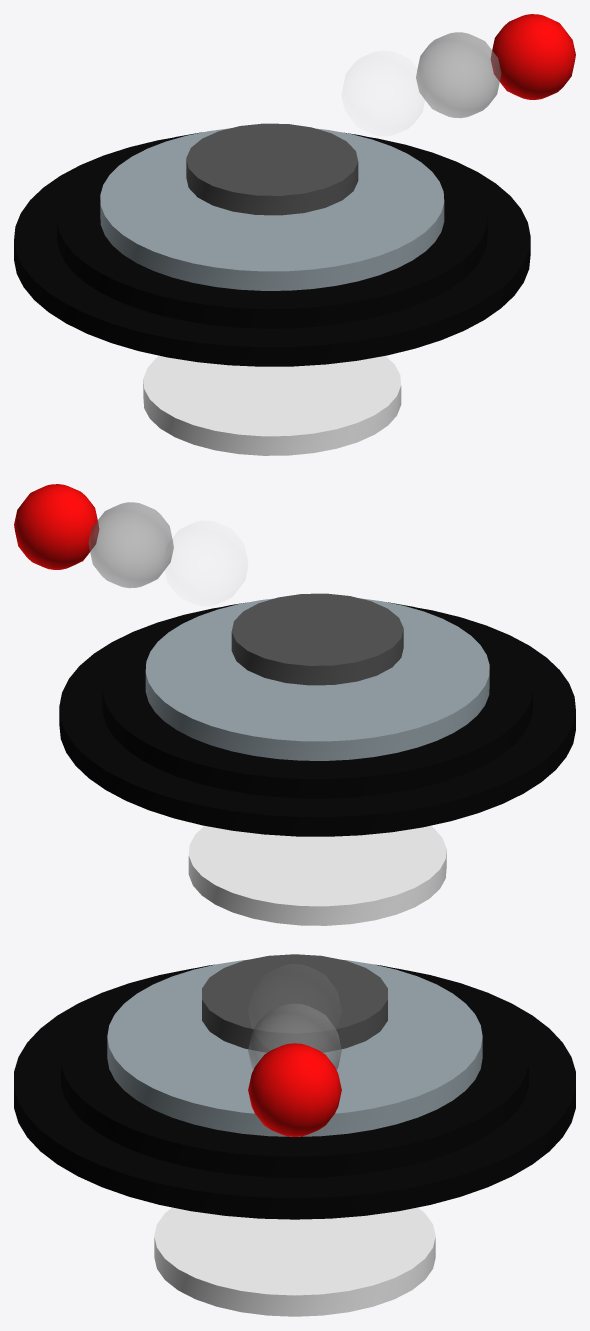
Rendered from Objekte.glb.
3 renders of one model, top to bottom at view 1: azimuth 30°, elevation 25°; view 2: azimuth 150°, elevation 25°; view 3: azimuth 270°, elevation 25°, orthographic. The views are drawn at different scales.
Parts seen in each view (by area): view 1: Cylinder_3_Lack, Cylinder_5_Glas, Cylinder_4_Plastic, Cylinder_2_Chrom, Cylinder_1_Gummy, Sphere.2, Sphere.1; view 2: Cylinder_3_Lack, Cylinder_5_Glas, Cylinder_4_Plastic, Cylinder_2_Chrom, Cylinder_1_Gummy, Sphere.2, Sphere.1; view 3: Cylinder_5_Glas, Cylinder_3_Lack, Cylinder_4_Plastic, Cylinder_2_Chrom, Cylinder_1_Gummy, Sphere.2, Sphere.1.
Boxes of the visible parts, <box> form: Cylinder_3_Lack: <box>100,128,444,290</box>; Cylinder_5_Glas: <box>14,137,530,366</box>; Cylinder_4_Plastic: <box>57,132,487,328</box>; Cylinder_2_Chrom: <box>143,355,401,455</box>; Cylinder_1_Gummy: <box>186,123,358,215</box>; Sphere.2: <box>491,14,575,99</box>; Sphere.1: <box>416,32,501,118</box>; Cylinder_3_Lack: <box>145,598,489,760</box>; Cylinder_5_Glas: <box>59,607,575,836</box>; Cylinder_4_Plastic: <box>102,602,532,798</box>; Cylinder_2_Chrom: <box>188,825,446,925</box>; Cylinder_1_Gummy: <box>231,593,403,685</box>; Sphere.2: <box>14,484,98,569</box>; Sphere.1: <box>88,502,173,588</box>; Cylinder_5_Glas: <box>14,968,575,1219</box>; Cylinder_3_Lack: <box>107,960,482,1136</box>; Cylinder_4_Plastic: <box>61,964,528,1177</box>; Cylinder_2_Chrom: <box>154,1207,435,1316</box>; Cylinder_1_Gummy: <box>202,954,387,1052</box>; Sphere.2: <box>248,1043,341,1136</box>; Sphere.1: <box>248,1003,341,1069</box>.
Bounding box in the file's own units: 314 × 184 × 269.
